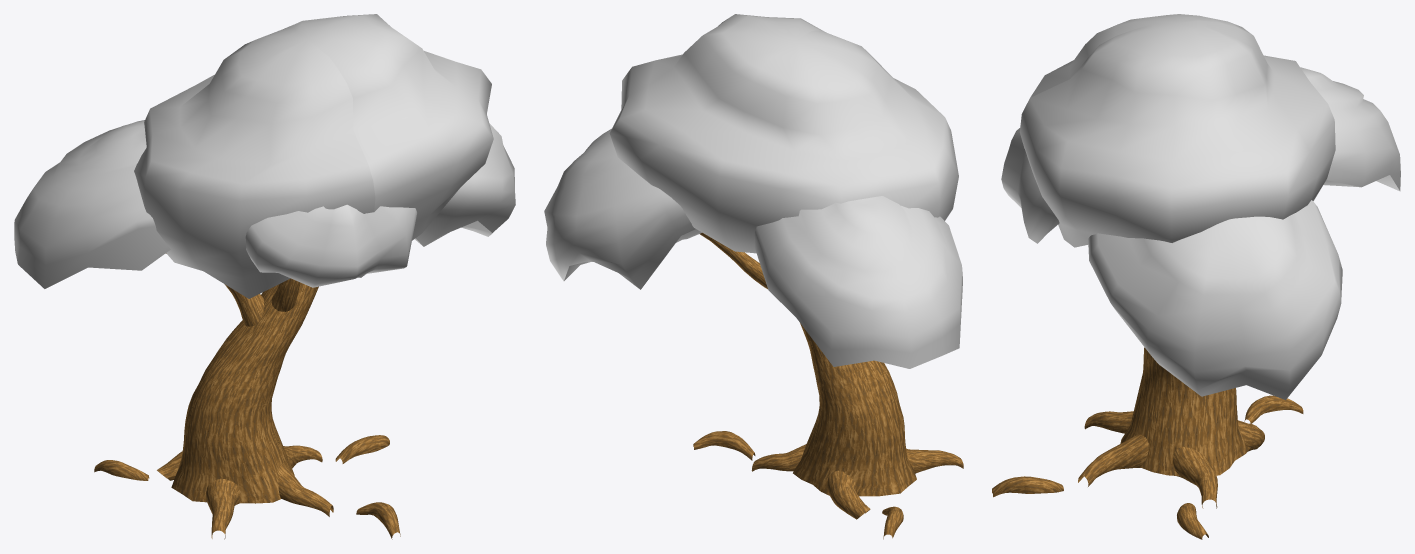
File: sm_WorldTree 1.fbx
3 views of the same model, side by side, from view 1: azimuth 30°, elevation 25°; view 2: azimuth 150°, elevation 25°; view 3: azimuth 270°, elevation 25° (orthographic). The views are drawn at different scales.
Visible parts, largest first — view 1: sm_WorldTree_Canopy, sm_WorldTree_Trunk; view 2: sm_WorldTree_Canopy, sm_WorldTree_Trunk; view 3: sm_WorldTree_Canopy, sm_WorldTree_Trunk.
Boxes of the visible parts, x1,y1,x2,y2 form: sm_WorldTree_Canopy: (14,14,515,298); sm_WorldTree_Trunk: (94,253,400,539); sm_WorldTree_Canopy: (544,14,962,368); sm_WorldTree_Trunk: (693,232,963,539); sm_WorldTree_Canopy: (1001,14,1400,399); sm_WorldTree_Trunk: (992,347,1303,539).
Bounding box in the file's own units: 20027 × 19503 × 15076.
